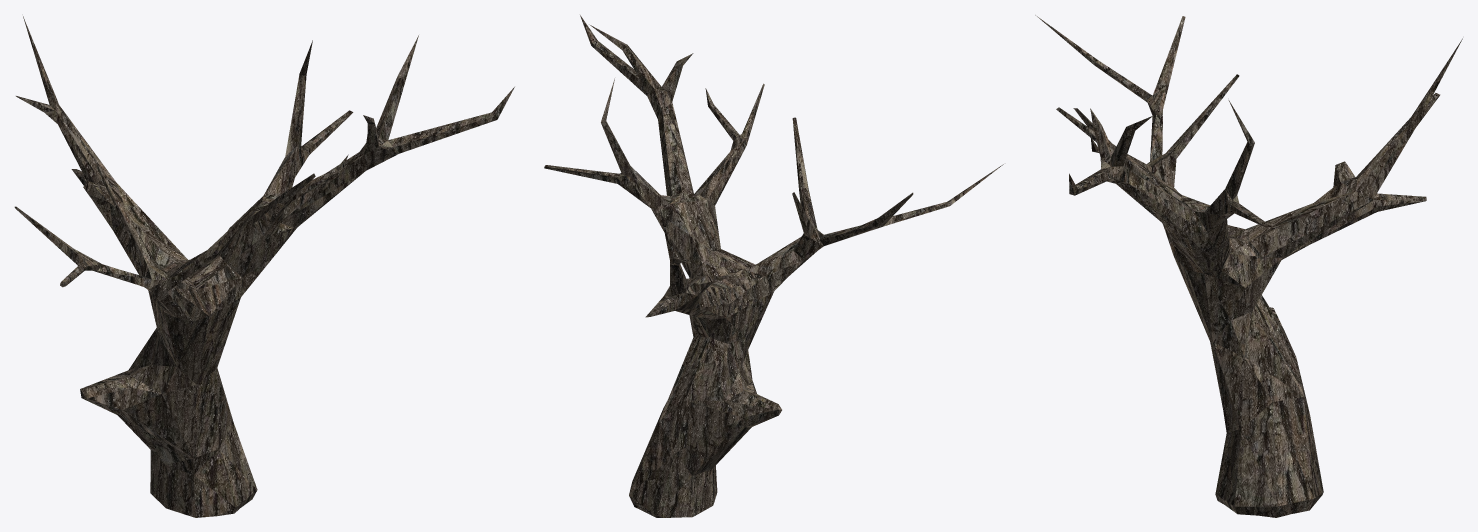
The model's file is Tree_Model.fbx.
The picture shows the model from 3 angles, left to right: view 1: azimuth 30°, elevation 25°; view 2: azimuth 150°, elevation 25°; view 3: azimuth 270°, elevation 25°; orthographic projection. The views are drawn at different scales.
Parts seen in each view (by area): view 1: group_0; view 2: group_0; view 3: group_0.
Part boxes in pixels (<box>): group_0: <box>14,16,514,517</box>; group_0: <box>544,15,1003,517</box>; group_0: <box>1035,15,1462,517</box>.
Size of the model in its own units: 1050 by 989 by 840.
